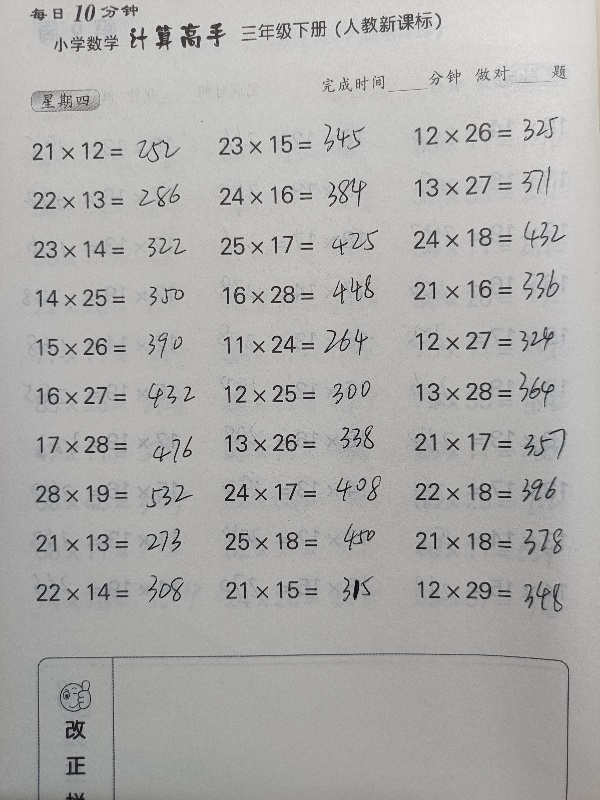equation: (408, 361, 588, 411), (406, 421, 586, 467), (405, 265, 585, 309), (407, 164, 587, 207), (210, 117, 390, 160), (407, 521, 587, 563), (216, 321, 396, 363), (404, 214, 584, 256), (406, 471, 586, 510), (406, 322, 586, 360), (407, 113, 587, 150), (217, 375, 397, 411), (217, 523, 397, 558), (218, 573, 398, 607), (27, 477, 207, 511), (28, 281, 208, 315), (212, 228, 392, 262), (25, 183, 205, 217), (211, 178, 391, 212), (28, 576, 208, 609), (408, 573, 588, 606), (27, 526, 207, 559), (215, 475, 395, 508), (29, 428, 209, 461), (215, 426, 395, 459), (28, 379, 208, 412), (28, 330, 208, 363), (213, 278, 393, 311), (26, 233, 206, 266), (24, 134, 204, 167)
